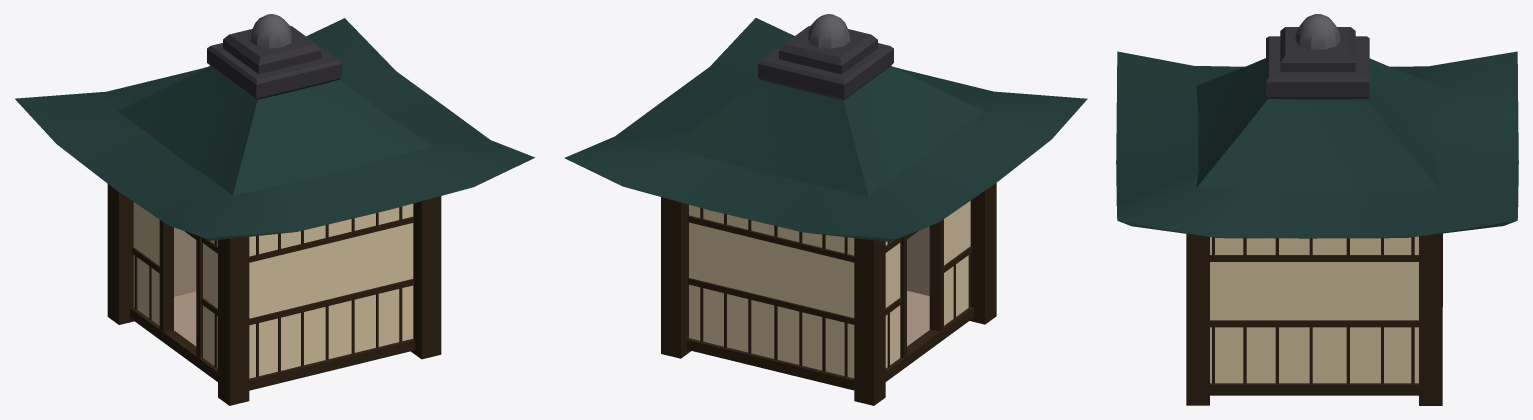
Rendered from houme05_2.fbx.
3 views of the same model, side by side, from view 1: azimuth 30°, elevation 25°; view 2: azimuth 150°, elevation 25°; view 3: azimuth 270°, elevation 25° (orthographic). The views are drawn at different scales.
Visible parts, largest first — view 1: houme05_2; view 2: houme05_2; view 3: houme05_2.
Boxes of the visible parts, box(x1,y1,x2,y2) form: houme05_2: box(15, 14, 534, 405); houme05_2: box(564, 14, 1087, 405); houme05_2: box(1116, 14, 1518, 405).
Bounding box in the file's own units: 914 × 840 × 914.
